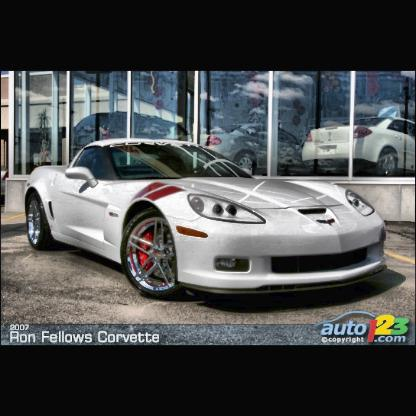Chevrolet Corvette Ron Fellows Edition Z06 2007: (24, 138, 390, 305)
